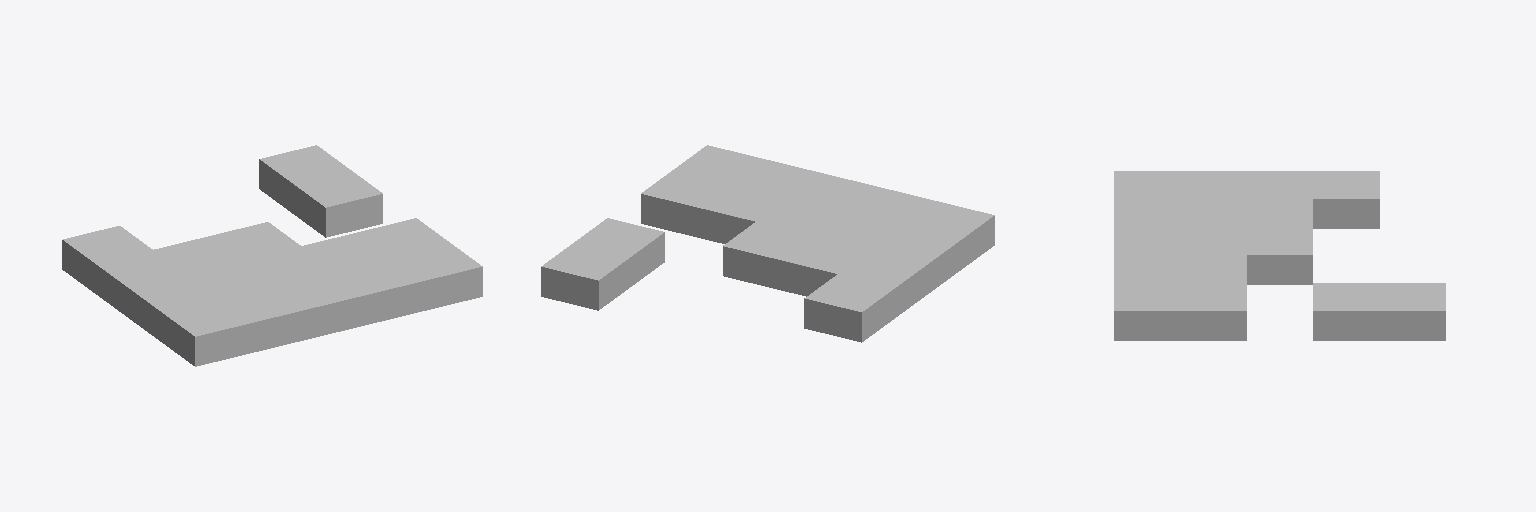
Rendered from 32s_block.obj.
3 views of the same model, side by side, from view 1: azimuth 30°, elevation 25°; view 2: azimuth 150°, elevation 25°; view 3: azimuth 270°, elevation 25° (orthographic).
Parts seen in each view (by area): view 1: block.4.3_block.3620, block.0.0_block.3605, block.4.0_block.3617, block.2.0_block.3612, block.1.0_block.3609, block.3.0_block.3615, block.0.3_block.3608, block.0.2_block.3607, block.0.1_block.3606, block.4.4_block.3621, block.1.1_block.3610, block.2.1_block.3613 (+4 smaller); view 2: block.0.3_block.3608, block.4.4_block.3621, block.4.1_block.3618, block.2.2_block.3614, block.3.1_block.3616, block.1.2_block.3611, block.0.1_block.3606, block.0.0_block.3605, block.4.3_block.3620, block.0.2_block.3607, block.2.0_block.3612, block.1.1_block.3610 (+4 smaller); view 3: block.0.3_block.3608, block.4.1_block.3618, block.4.3_block.3620, block.2.2_block.3614, block.4.0_block.3617, block.4.4_block.3621, block.0.1_block.3606, block.1.1_block.3610, block.2.1_block.3613, block.3.1_block.3616, block.0.0_block.3605, block.0.2_block.3607 (+4 smaller).
Boxes of the visible parts, <box> form: block.4.3_block.3620: <box>292,169,382,237</box>; block.0.0_block.3605: <box>162,298,252,366</box>; block.4.0_block.3617: <box>392,242,482,310</box>; block.2.0_block.3612: <box>277,270,367,338</box>; block.1.0_block.3609: <box>220,285,309,352</box>; block.3.0_block.3615: <box>335,257,424,324</box>; block.0.3_block.3608: <box>62,226,152,293</box>; block.0.2_block.3607: <box>96,250,184,317</box>; block.0.1_block.3606: <box>129,274,218,341</box>; block.4.4_block.3621: <box>259,145,348,212</box>; block.1.1_block.3610: <box>187,260,276,297</box>; block.2.1_block.3613: <box>244,246,333,283</box>; block.0.3_block.3608: <box>804,274,894,342</box>; block.4.4_block.3621: <box>541,242,631,310</box>; block.4.1_block.3618: <box>641,169,730,237</box>; block.2.2_block.3614: <box>723,222,811,289</box>; block.3.1_block.3616: <box>698,183,788,243</box>; block.1.2_block.3611: <box>780,236,869,296</box>; block.0.1_block.3606: <box>871,226,961,293</box>; block.0.0_block.3605: <box>904,201,994,268</box>; block.4.3_block.3620: <box>575,218,664,285</box>; block.0.2_block.3607: <box>839,250,927,317</box>; block.2.0_block.3612: <box>789,173,878,210</box>; block.1.1_block.3610: <box>814,212,903,249</box>; block.0.3_block.3608: <box>1313,171,1379,228</box>; block.4.1_block.3618: <box>1180,283,1246,340</box>; block.4.3_block.3620: <box>1313,283,1379,340</box>; block.2.2_block.3614: <box>1247,227,1312,284</box>; block.4.0_block.3617: <box>1114,283,1179,340</box>; block.4.4_block.3621: <box>1380,283,1445,340</box>; block.0.1_block.3606: <box>1180,171,1246,198</box>; block.1.1_block.3610: <box>1180,199,1246,226</box>; block.2.1_block.3613: <box>1180,227,1246,254</box>; block.3.1_block.3616: <box>1180,255,1246,282</box>; block.0.0_block.3605: <box>1114,171,1179,198</box>; block.0.2_block.3607: <box>1247,171,1312,198</box>.
Size of the model in its own units: 10 by 1 by 10.